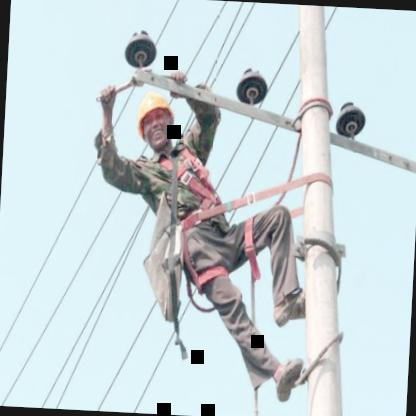helmet: (131, 84, 178, 158)
